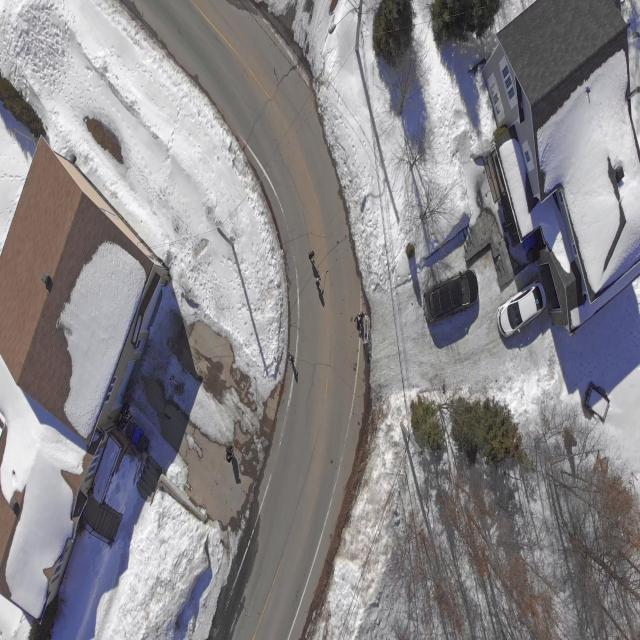Car: (490, 269, 560, 368), (419, 272, 482, 332), (581, 371, 613, 442)
Cycle: (305, 228, 332, 307), (286, 346, 309, 402), (354, 303, 374, 361)
